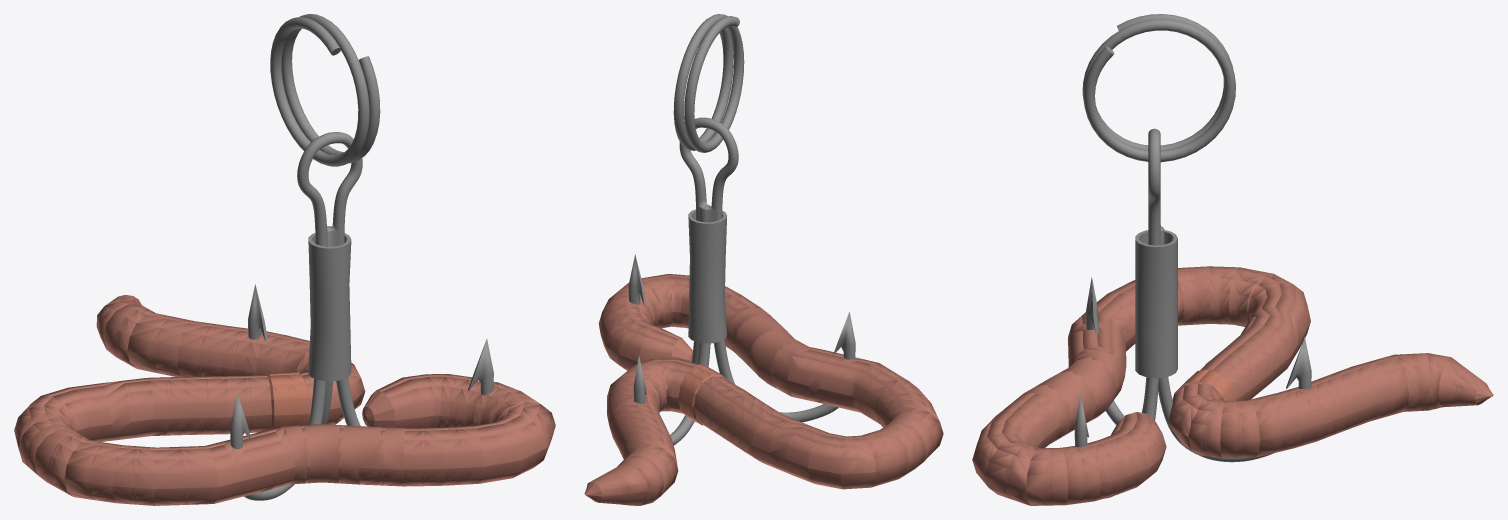
Rendered from Big Worm.glb.
The picture shows the model from 3 angles, left to right: view 1: azimuth 30°, elevation 25°; view 2: azimuth 150°, elevation 25°; view 3: azimuth 270°, elevation 25°; orthographic projection. The views are drawn at different scales.
Visible parts, largest first — view 1: Big Worm; view 2: Big Worm; view 3: Big Worm.
Boxes of the visible parts, <box> form: Big Worm: <box>14,14,555,505</box>; Big Worm: <box>584,14,943,505</box>; Big Worm: <box>972,14,1493,505</box>.
Bounding box in the file's own units: 0.614 × 0.6099 × 0.6547.
